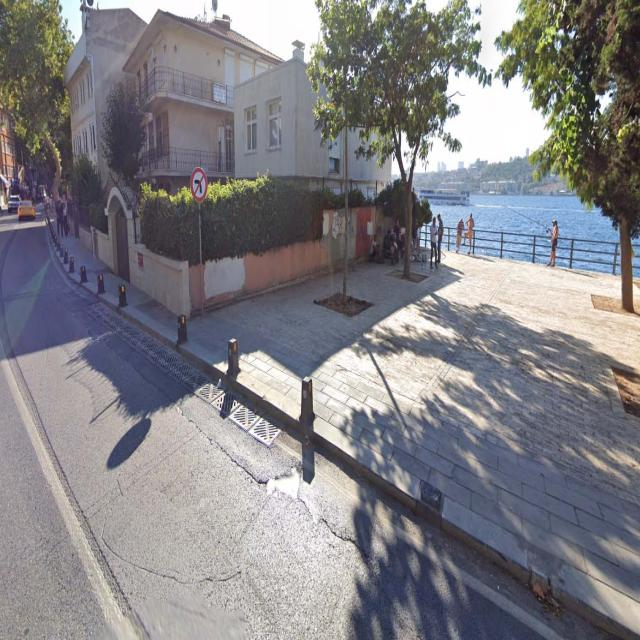soladonulmez: (191, 167, 207, 201)
